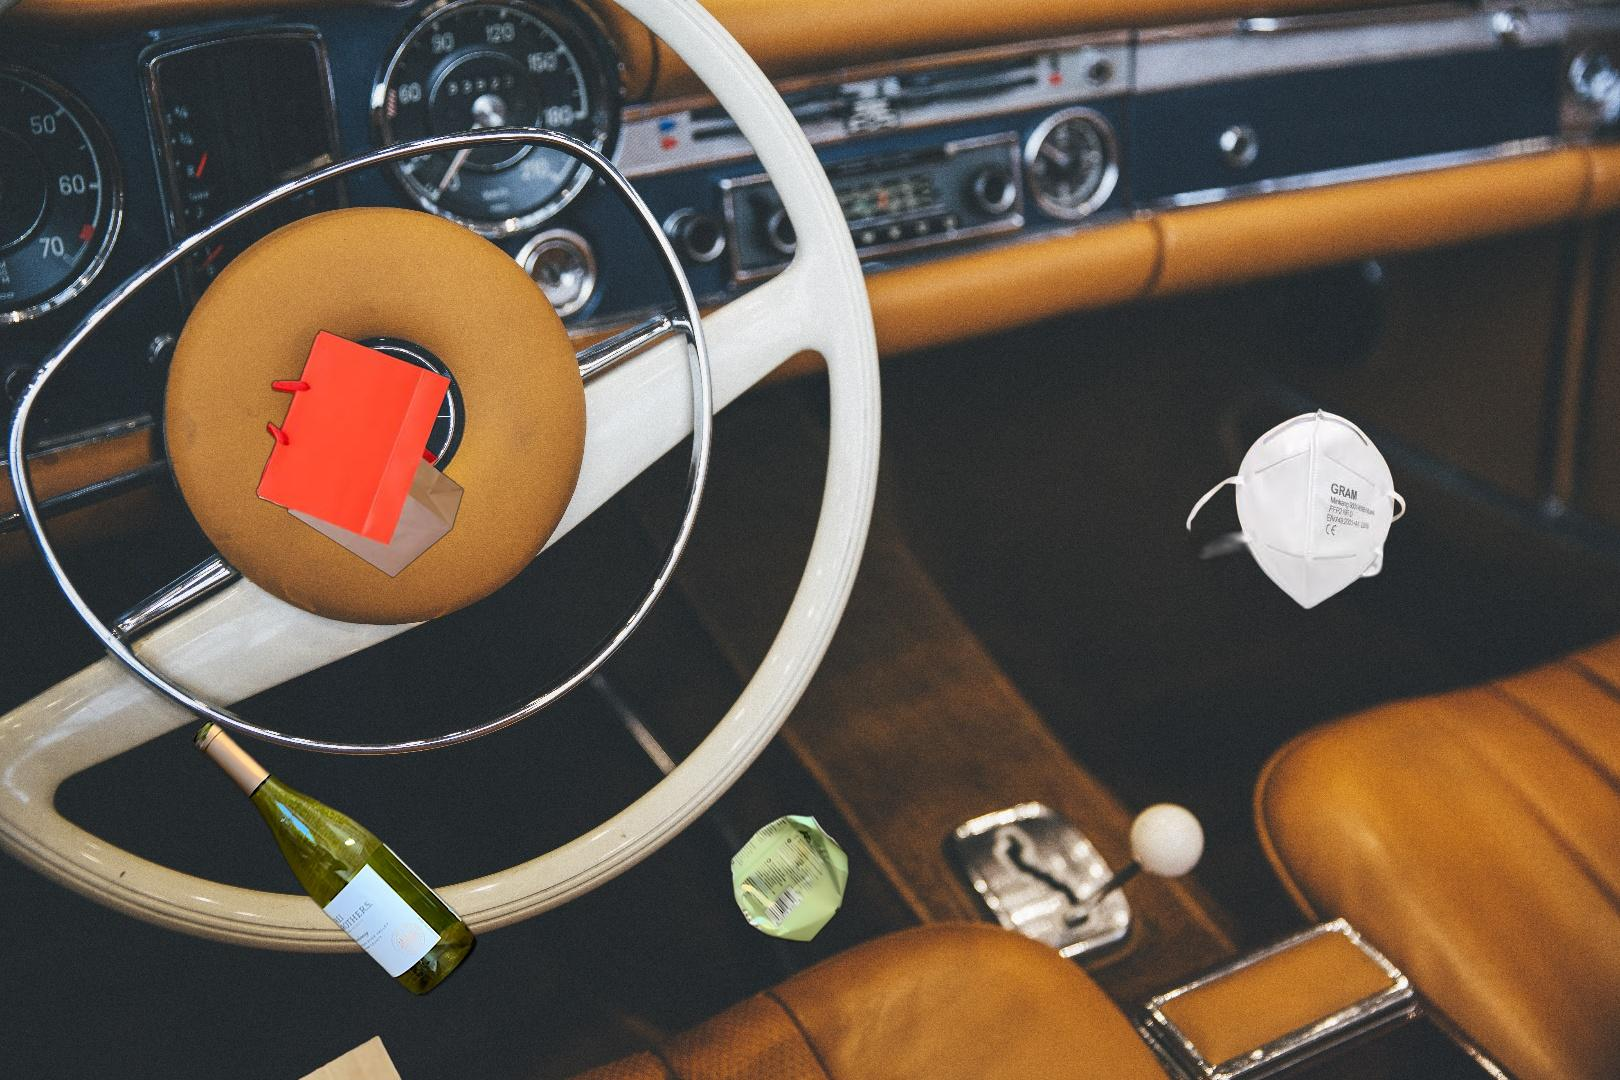glass: (189, 715, 482, 1002)
metal-cans: (726, 809, 855, 947)
paper-bag: (253, 327, 466, 581), (227, 1031, 425, 1080)
trash: (1182, 405, 1408, 623)
